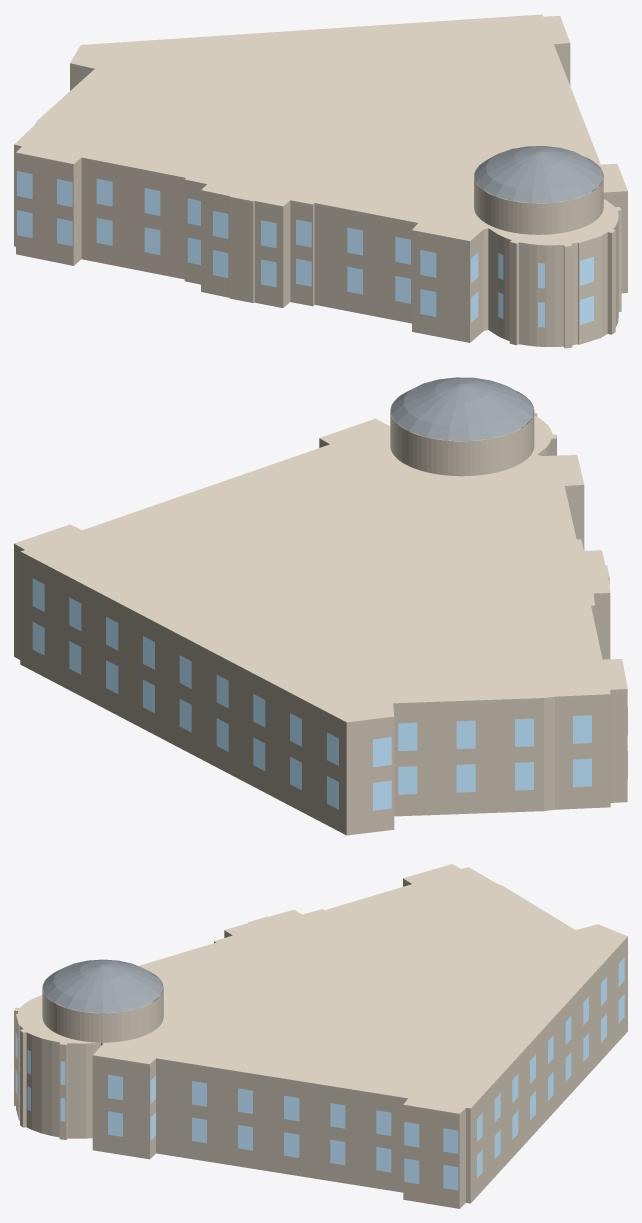
Rendered from detail.glb.
The picture shows the model from 3 angles, top to bottom: view 1: azimuth 30°, elevation 25°; view 2: azimuth 150°, elevation 25°; view 3: azimuth 270°, elevation 25°; orthographic projection. The views are drawn at different scales.
Visible parts, largest first — view 1: stone, window, roof, trim; view 2: stone, window, roof; view 3: stone, window, roof, trim.
Boxes of the visible parts, x1=… form: stone: x1=14, y1=14, x2=627, y2=348; window: x1=17, y1=171, x2=593, y2=327; roof: x1=474, y1=146, x2=603, y2=203; trim: x1=14, y1=44, x2=627, y2=248; stone: x1=14, y1=389, x2=627, y2=835; window: x1=32, y1=578, x2=627, y2=810; roof: x1=390, y1=377, x2=533, y2=441; stone: x1=14, y1=864, x2=627, y2=1208; window: x1=15, y1=957, x2=624, y2=1190; roof: x1=42, y1=959, x2=163, y2=1013; trim: x1=14, y1=879, x2=624, y2=1115.
Size of the model in its own units: 73.27 by 20 by 76.08.
